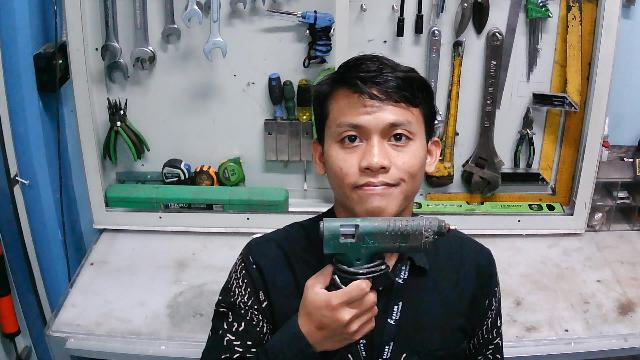gun_lem: (318, 211, 458, 305)
